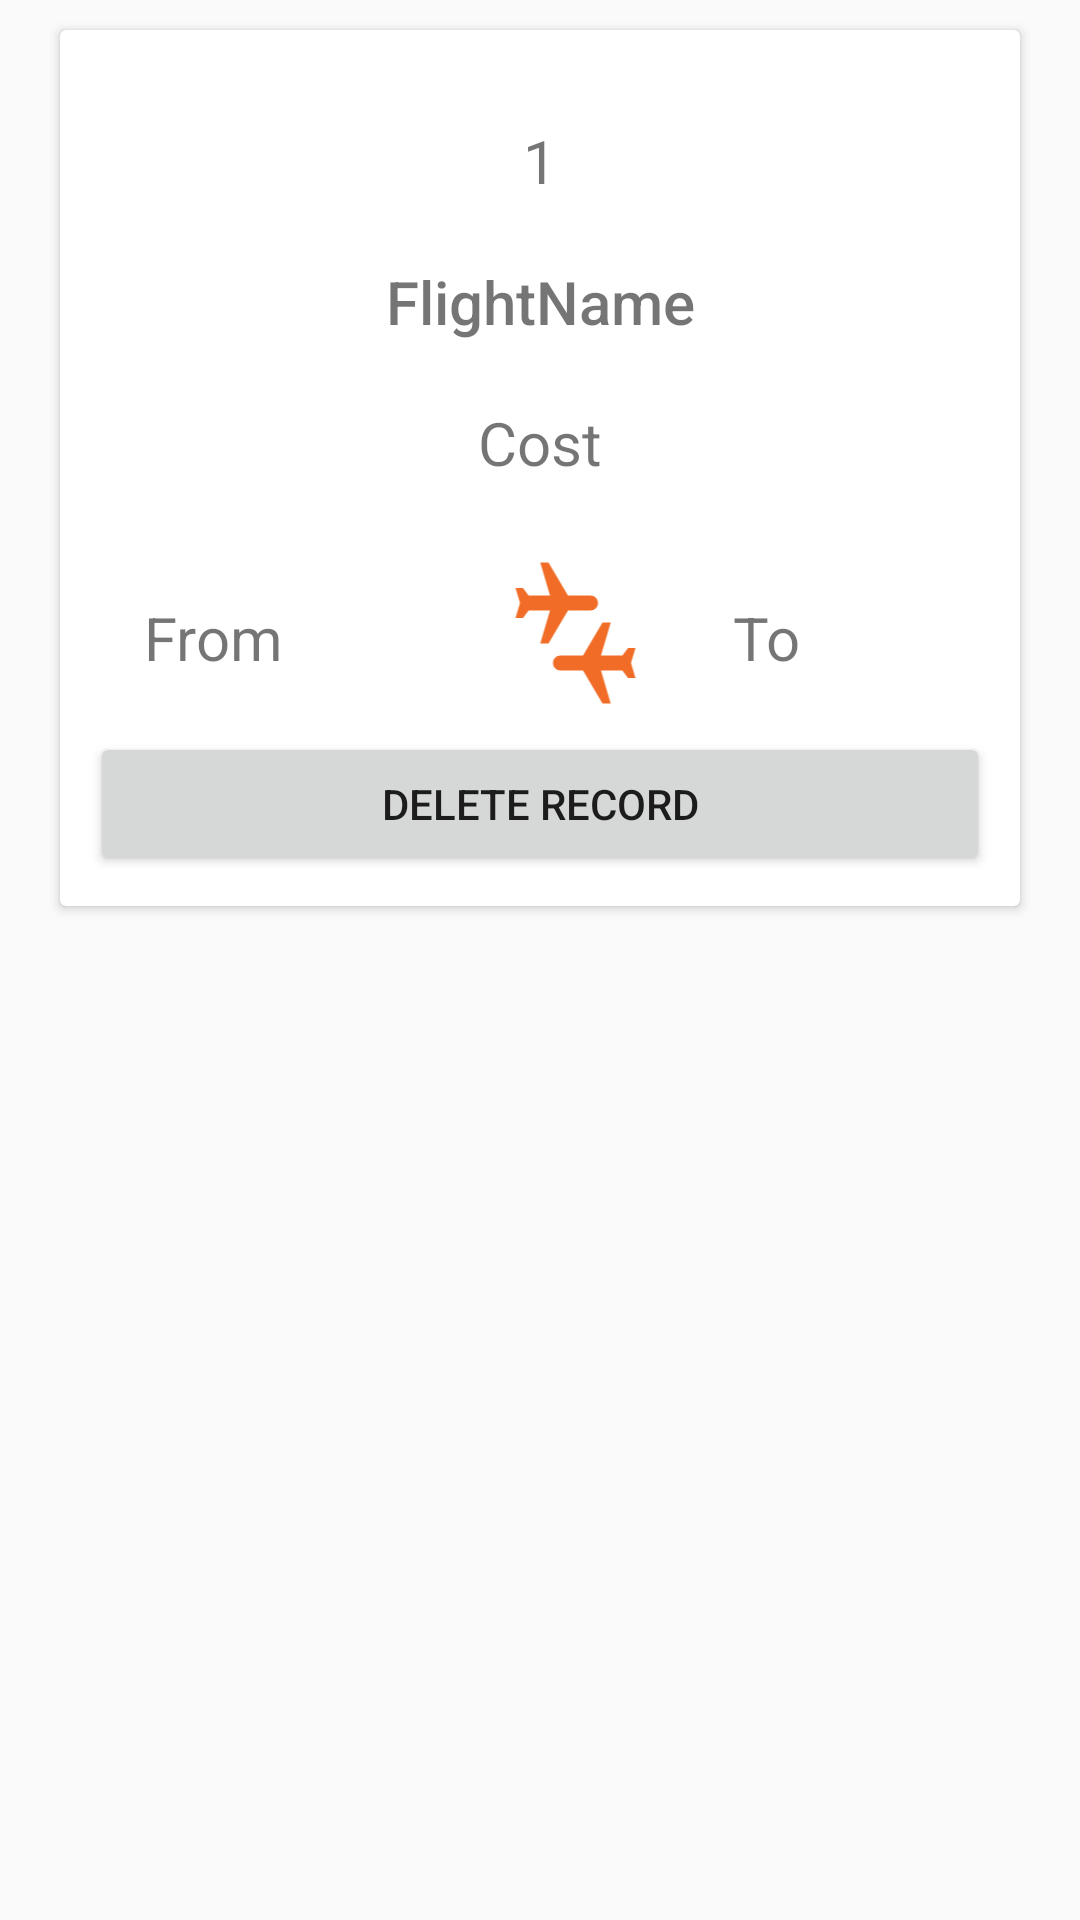

Screen size 1080×1920. Icon name, then its box in pixels as (x1, y1, x2, y2):
connecting airports: (515, 562, 636, 704)
